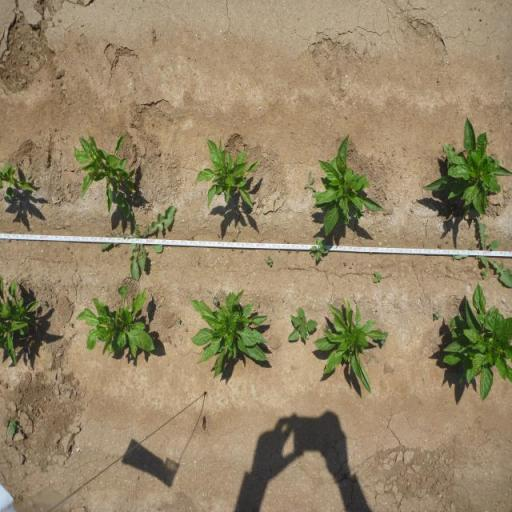plant: (418, 116, 512, 217), (185, 289, 272, 387), (441, 282, 512, 402), (313, 133, 385, 237), (311, 298, 381, 395), (75, 284, 157, 360), (71, 124, 138, 211), (193, 133, 262, 210), (0, 272, 39, 366), (0, 160, 35, 204)
weed: (101, 191, 179, 283), (450, 215, 512, 287), (288, 306, 318, 342), (310, 236, 328, 262), (304, 170, 316, 193), (8, 418, 20, 436), (373, 270, 382, 284), (266, 255, 274, 267), (434, 310, 442, 321), (480, 268, 488, 278), (323, 324, 332, 332), (25, 171, 33, 180), (212, 296, 218, 306), (41, 299, 46, 306), (176, 316, 180, 323), (69, 321, 73, 328), (343, 261, 347, 267)
